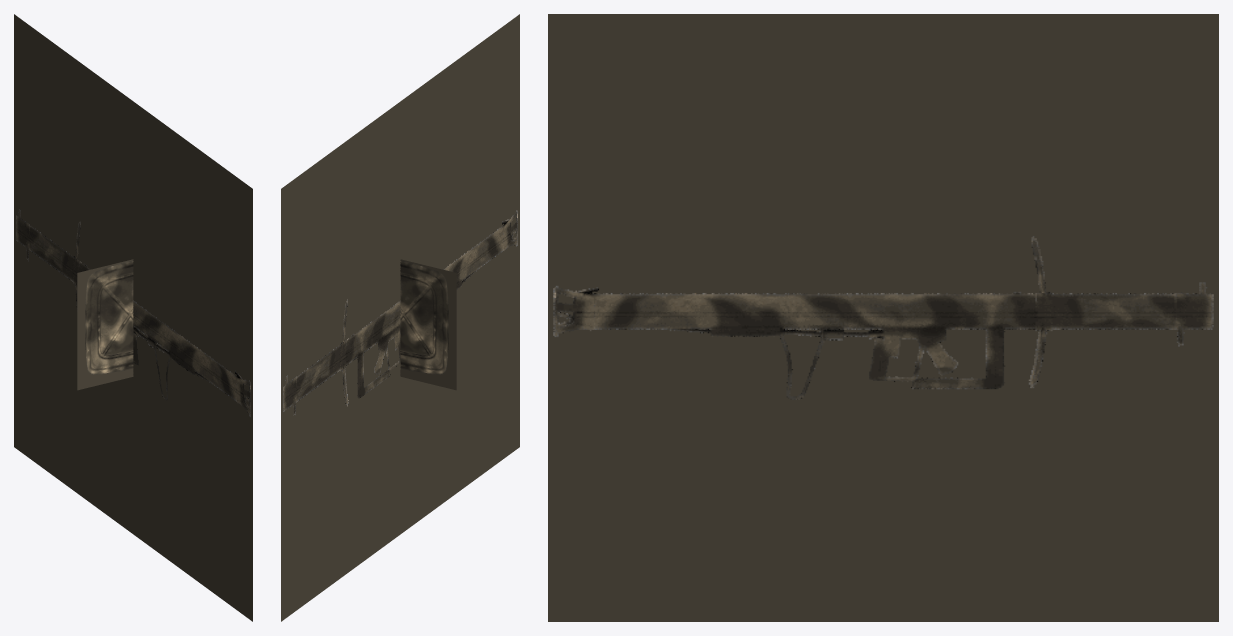
File: panzerschreck_tactical_beard_v2_pbr_bb.glb
3 views of the same model, side by side, from view 1: azimuth 30°, elevation 25°; view 2: azimuth 150°, elevation 25°; view 3: azimuth 270°, elevation 25° (orthographic). The views are drawn at different scales.
Visible parts, largest first — view 1: panzerschreck_tactical_beard_v2_pbr_bb; view 2: panzerschreck_tactical_beard_v2_pbr_bb; view 3: panzerschreck_tactical_beard_v2_pbr_bb.
Part boxes in pixels (x1,y1,x2,y2): panzerschreck_tactical_beard_v2_pbr_bb: (14, 14, 252, 621); panzerschreck_tactical_beard_v2_pbr_bb: (281, 14, 519, 621); panzerschreck_tactical_beard_v2_pbr_bb: (548, 14, 1218, 621).
Size of the model in its own units: 0.4539 by 1.67 by 1.67.
1 material, 1 textured.
